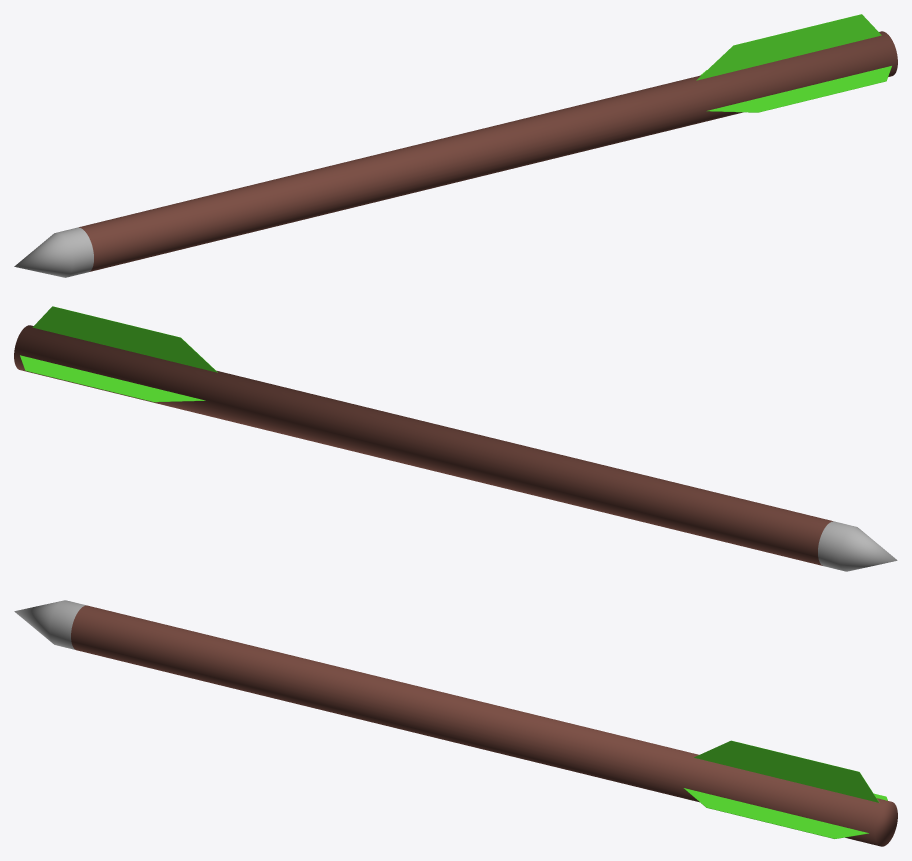
Rendered from CrossBowBolt.fbx.
The picture shows the model from 3 angles, top to bottom: view 1: azimuth 30°, elevation 25°; view 2: azimuth 150°, elevation 25°; view 3: azimuth 330°, elevation 25°; orthographic projection.
Parts seen in each view (by area): view 1: Cylinder, Cube.001, Cube.002; view 2: Cylinder, Cube.001, Cube; view 3: Cylinder, Cube.001, Cube.002.
Boxes of the visible parts, left/top/right/bottom form: Cylinder: left=14, top=31, right=897, bottom=277; Cube.001: left=696, top=14, right=881, bottom=80; Cube.002: left=706, top=66, right=891, bottom=112; Cylinder: left=14, top=325, right=897, bottom=571; Cube.001: left=32, top=306, right=217, bottom=372; Cube: left=20, top=355, right=205, bottom=402; Cylinder: left=14, top=600, right=897, bottom=846; Cube.001: left=694, top=740, right=879, bottom=802; Cube.002: left=683, top=788, right=868, bottom=838.
Size of the model in its own units: 240 by 17.81 by 24.61.
